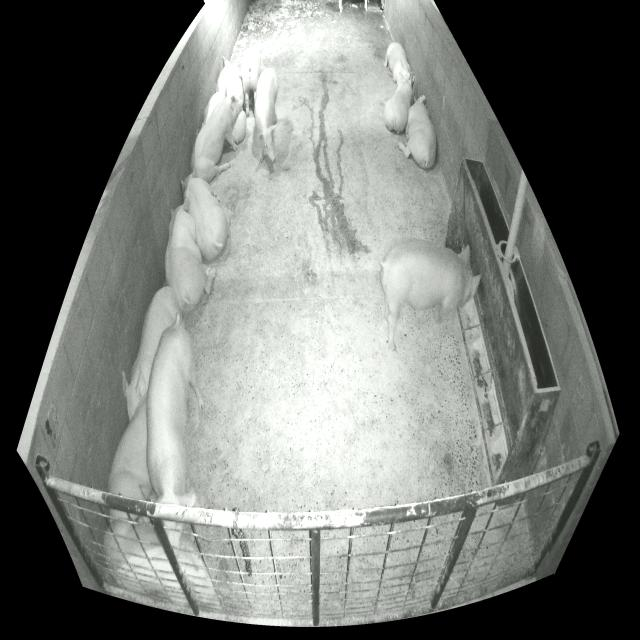pig: (148, 316, 204, 555), (380, 239, 480, 351), (102, 521, 215, 605), (122, 287, 182, 421), (190, 86, 243, 183), (165, 199, 206, 311), (108, 395, 151, 500), (181, 168, 228, 259), (397, 95, 436, 169), (255, 69, 278, 163), (385, 75, 415, 134), (216, 56, 244, 104), (242, 47, 261, 117), (384, 42, 414, 86), (203, 92, 224, 126)
